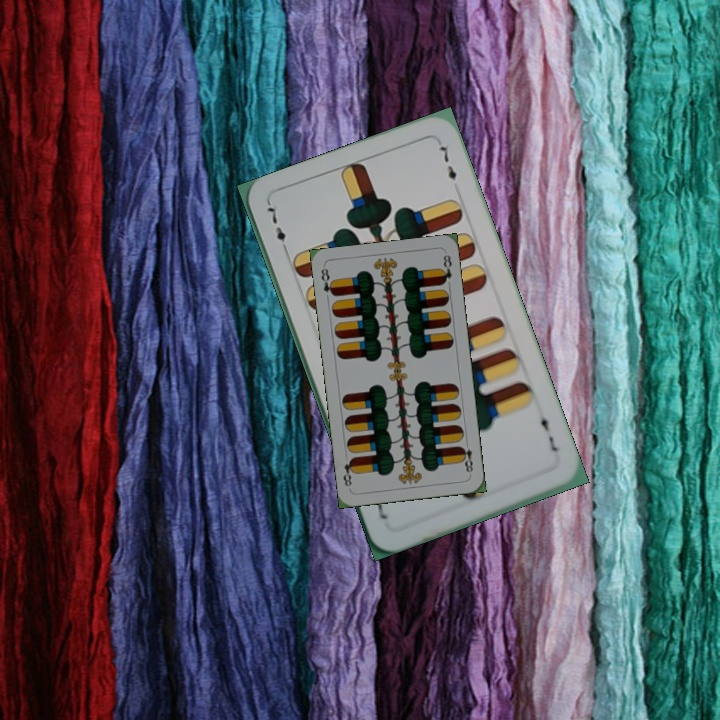E7: (263, 199, 291, 257), (534, 408, 561, 455)
E8: (317, 264, 338, 299), (457, 437, 475, 477)
